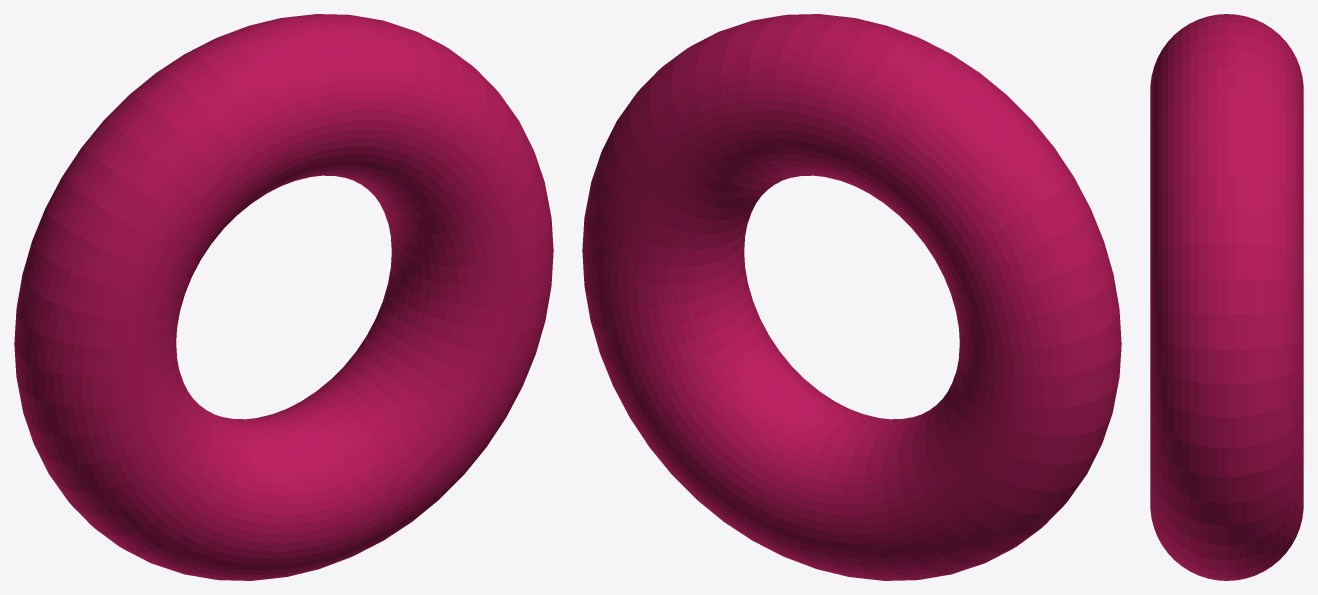
3 views of the same model, side by side, from view 1: azimuth 30°, elevation 25°; view 2: azimuth 150°, elevation 25°; view 3: azimuth 270°, elevation 25° (orthographic). The views are drawn at different scales.
Parts seen in each view (by area): view 1: world; view 2: world; view 3: world.
Boxes of the visible parts, box(x1,y1,x2,y2) form: world: box(14, 14, 553, 580); world: box(582, 14, 1121, 580); world: box(1150, 14, 1303, 580).
Bounding box in the file's own units: 32 × 31.94 × 8.65.
